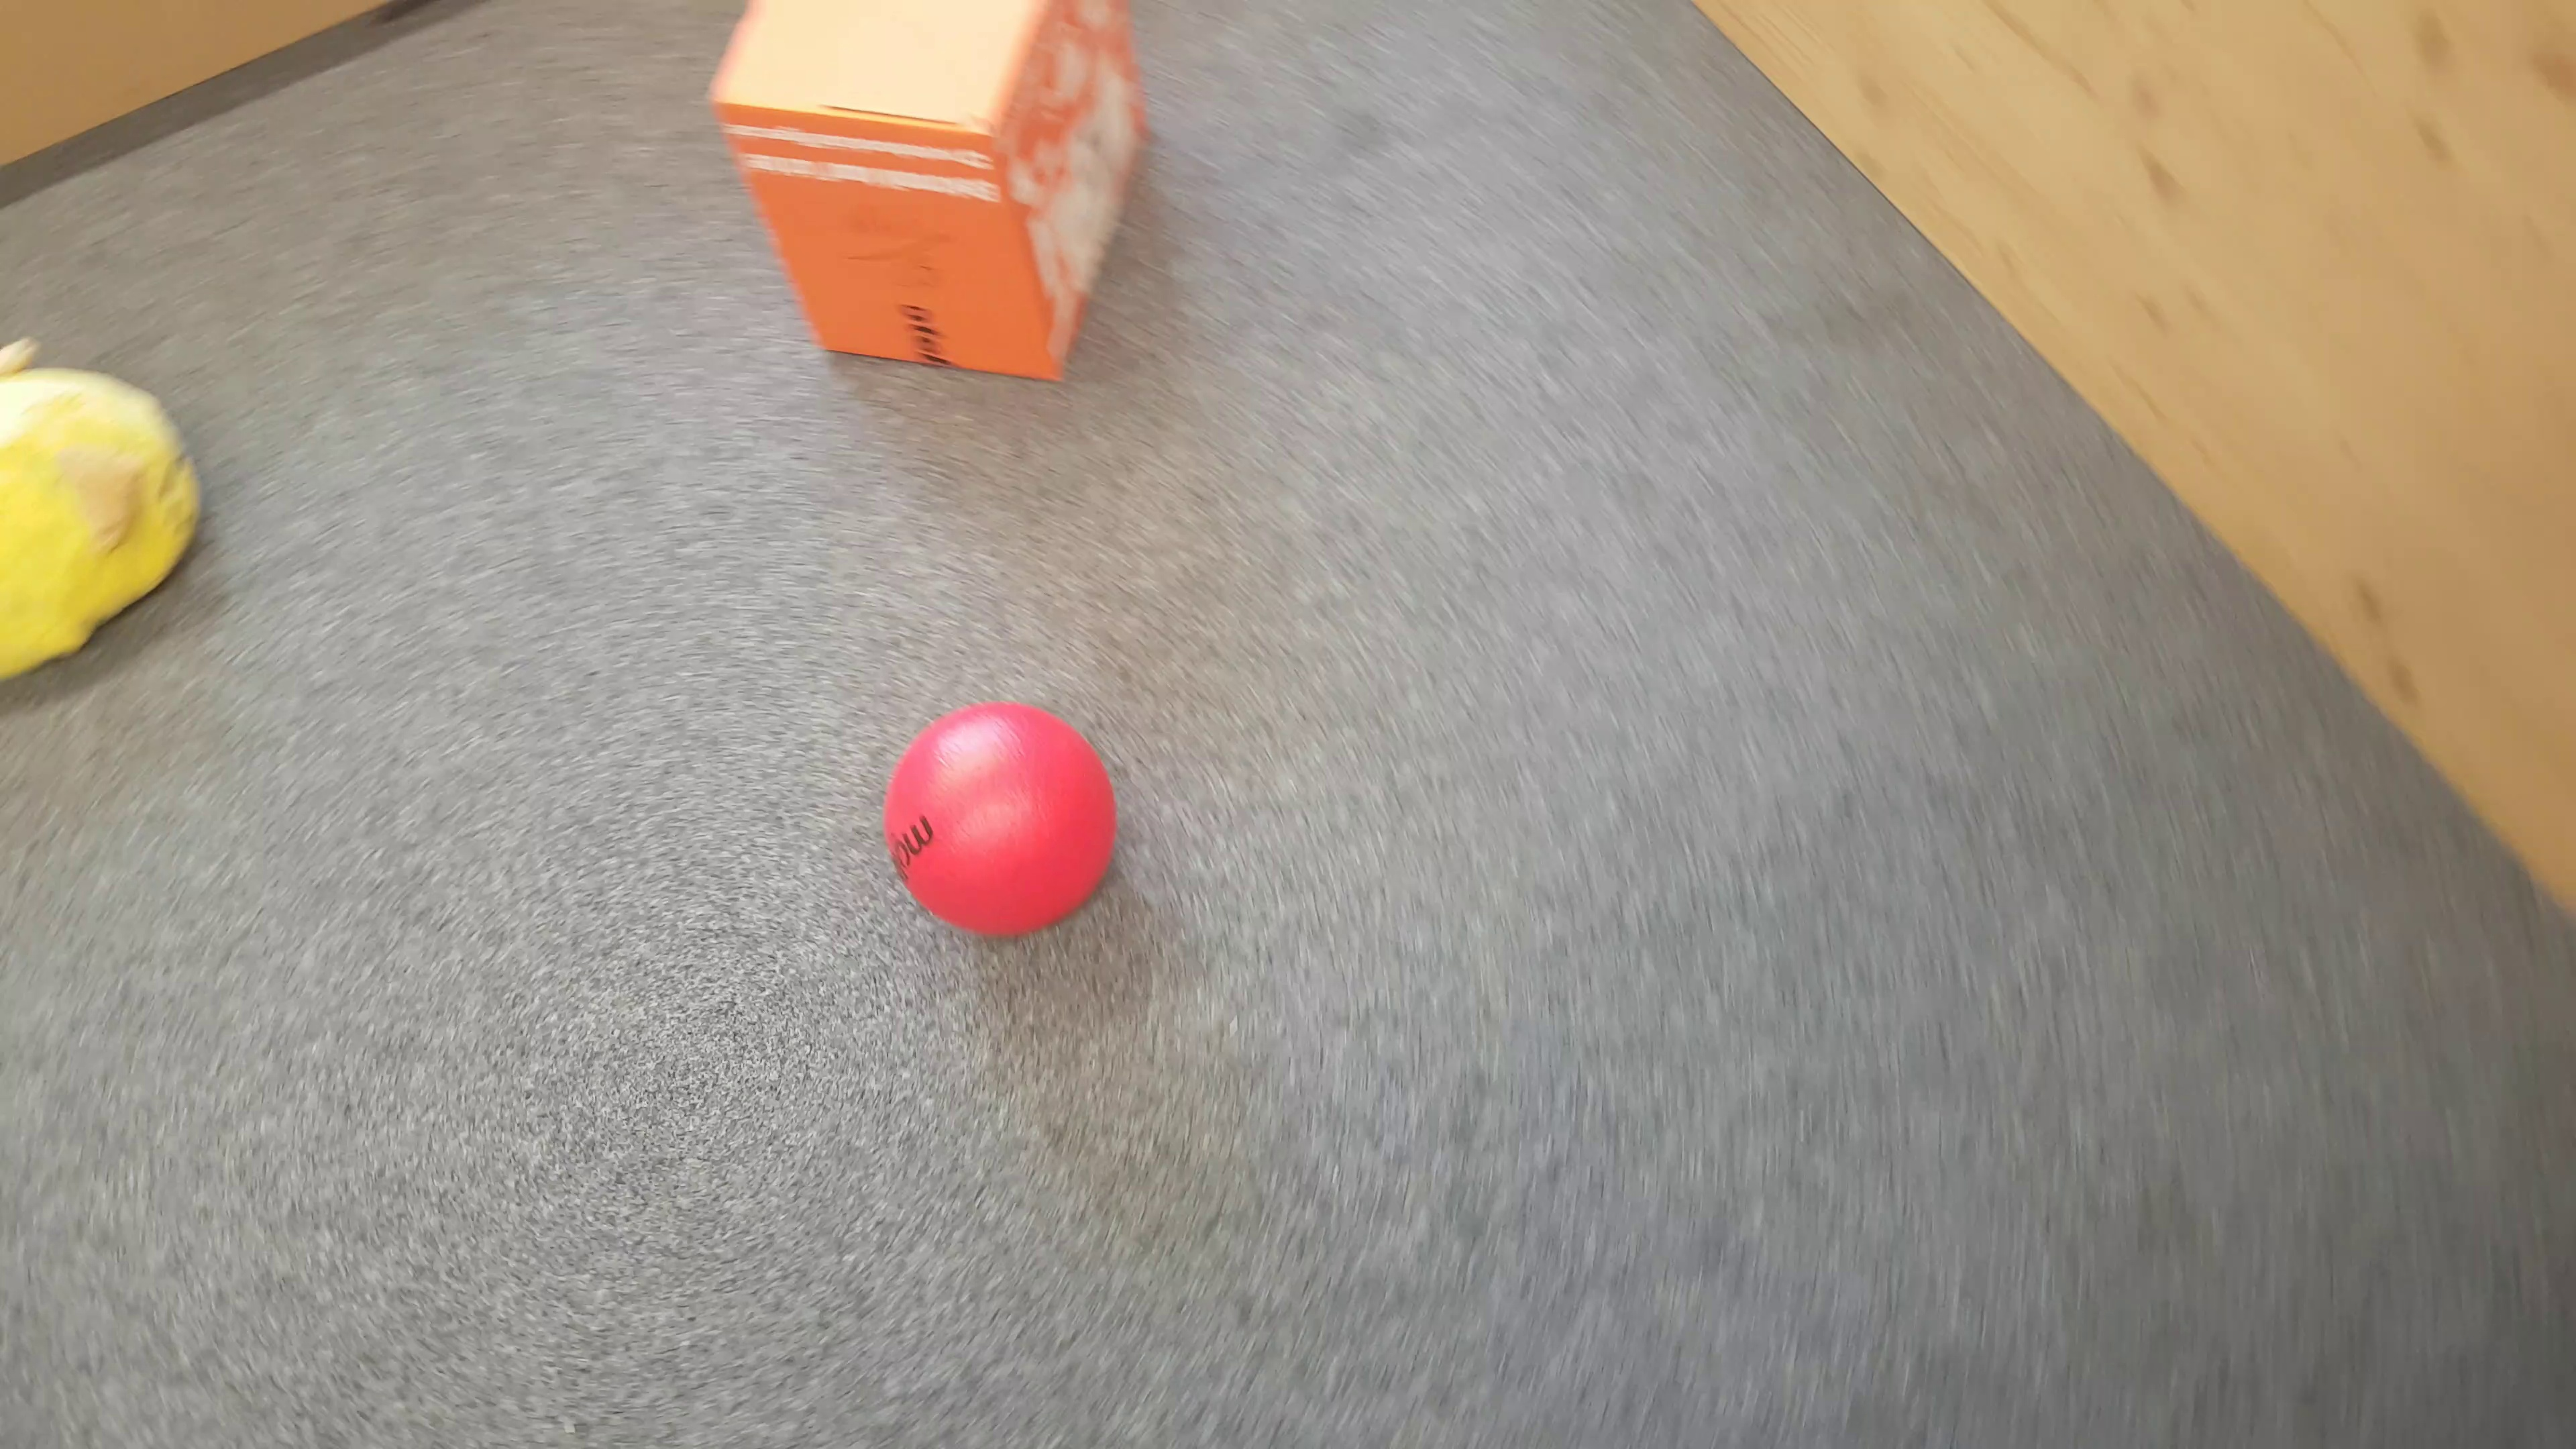grasp: (4, 340, 205, 701)
kick: (885, 704, 1122, 941)
push: (709, 5, 1152, 379)
